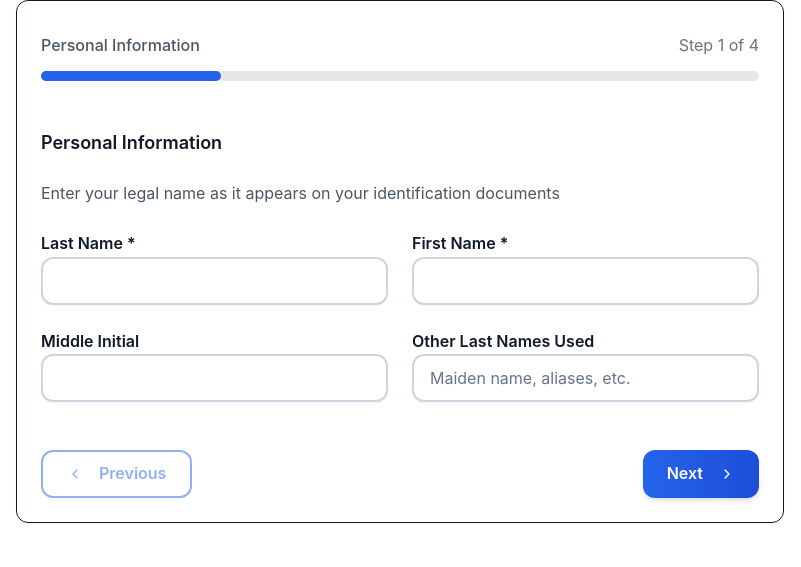
Test: I9Section1FormClean › Step 1: Personal Information › should validate required fields
This screenshot has width=801, height=567.
Note: Try to proceed without filling required fields
Click the button "Next" at (701, 474), box x1=643 y1=450 x2=759 y2=498
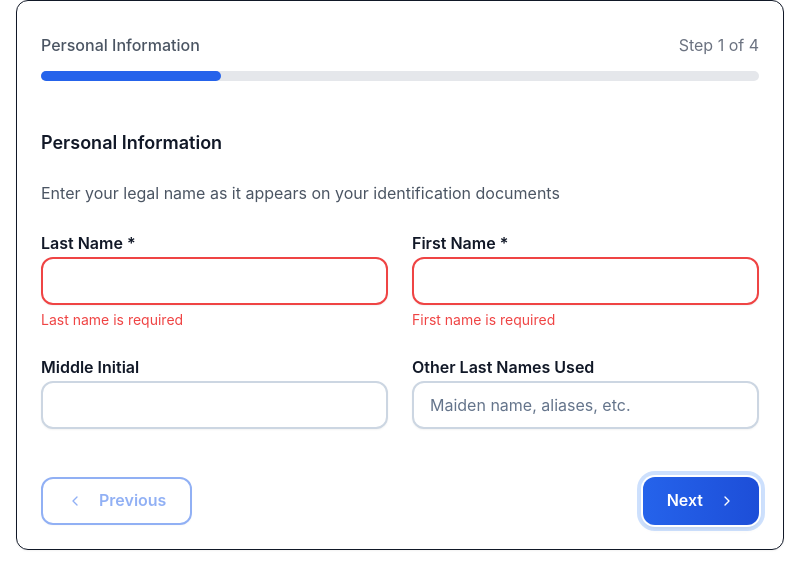
Now the text "Last name is required" is shown, box x1=41 y1=311 x2=183 y2=328
Now the text "First name is required" is shown, box x1=412 y1=311 x2=555 y2=328
